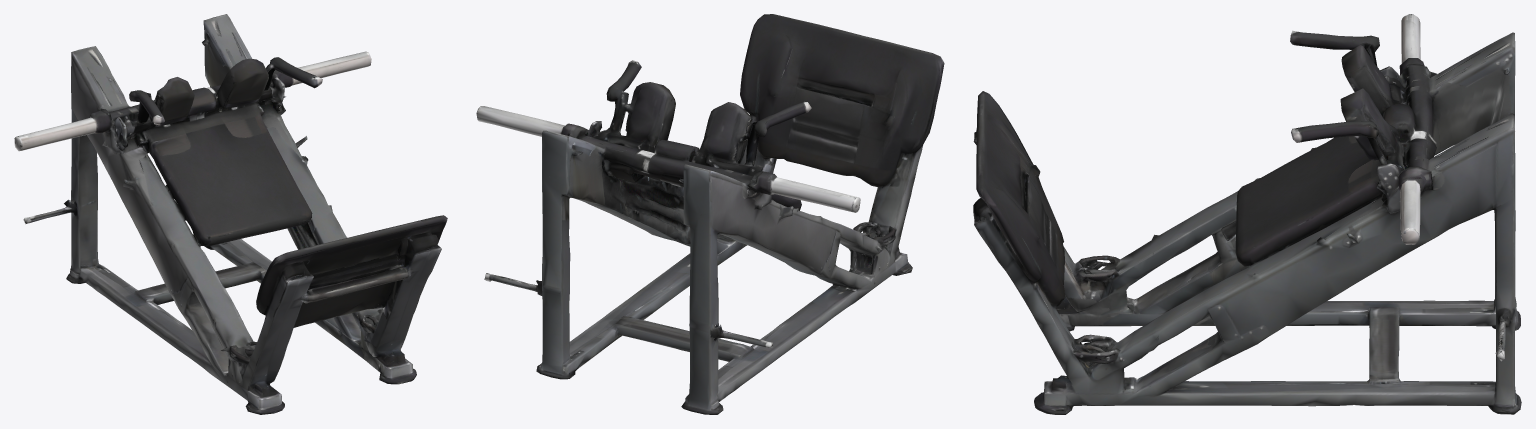
Rendered from Maquina_de_Piernas_Hack.glb.
3 renders of one model, left to right at view 1: azimuth 30°, elevation 25°; view 2: azimuth 150°, elevation 25°; view 3: azimuth 270°, elevation 25°, orthographic. The views are drawn at different scales.
Size of the model in its own units: 1.85 by 1.19 by 2.
Materials: 1 (1 with a texture image).
